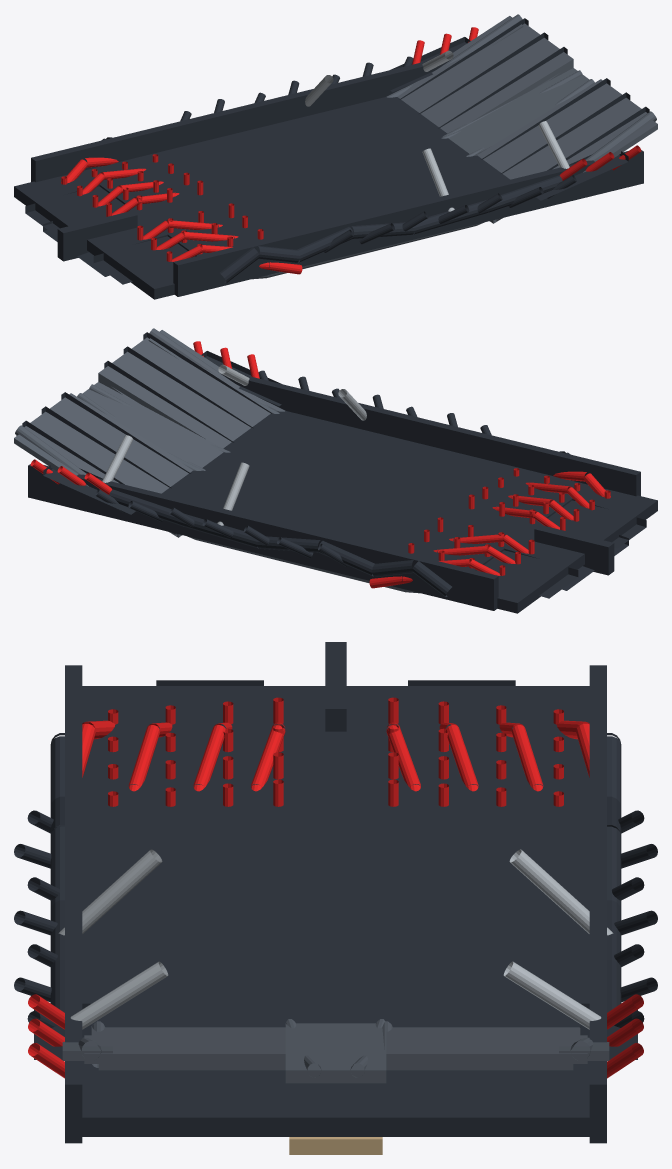
The model's file is FORMULA_EV_V3_COMPLETE_UNDERFLOOR.glb.
3 views of the same model, one above another, from view 1: azimuth 30°, elevation 25°; view 2: azimuth 150°, elevation 25°; view 3: azimuth 270°, elevation 25° (orthographic). The views are drawn at different scales.
Visible parts, largest first — view 1: 22_upper_floor_body, 33_right_diffuser, 32_left_diffuser, 27_left_floor_edge_wing, 35_boat_tail_keel, 26_right_inlet_fences_x4, 34_diffuser_strakes, 25_left_inlet_fences_x4, 31_bib_tea_tray, 37_floor_stays, 28_right_floor_edge_wing, 36_rear_wake_fences (+1 smaller); view 2: 22_upper_floor_body, 32_left_diffuser, 33_right_diffuser, 28_right_floor_edge_wing, 35_boat_tail_keel, 25_left_inlet_fences_x4, 34_diffuser_strakes, 26_right_inlet_fences_x4, 31_bib_tea_tray, 37_floor_stays, 27_left_floor_edge_wing, 36_rear_wake_fences (+1 smaller); view 3: 22_upper_floor_body, 33_right_diffuser, 32_left_diffuser, 27_left_floor_edge_wing, 28_right_floor_edge_wing, 37_floor_stays, 25_left_inlet_fences_x4, 26_right_inlet_fences_x4, 35_boat_tail_keel, 36_rear_wake_fences, 24_right_venturi_tunnel, 23_left_venturi_tunnel (+2 smaller).
Part boxes in pixels (x1,y1,x2,y2): 22_upper_floor_body: [14, 59, 643, 299]; 33_right_diffuser: [386, 14, 573, 133]; 32_left_diffuser: [477, 79, 657, 223]; 27_left_floor_edge_wing: [220, 151, 628, 283]; 35_boat_tail_keel: [441, 68, 594, 156]; 26_right_inlet_fences_x4: [61, 154, 203, 216]; 34_diffuser_strakes: [399, 18, 649, 174]; 25_left_inlet_fences_x4: [137, 203, 302, 274]; 31_bib_tea_tray: [43, 211, 137, 276]; 37_floor_stays: [305, 50, 569, 211]; 28_right_floor_edge_wing: [101, 37, 470, 140]; 36_rear_wake_fences: [412, 27, 641, 180]; 22_upper_floor_body: [28, 373, 657, 613]; 32_left_diffuser: [98, 328, 285, 448]; 33_right_diffuser: [14, 393, 192, 537]; 28_right_floor_edge_wing: [43, 465, 451, 597]; 35_boat_tail_keel: [77, 382, 230, 470]; 25_left_inlet_fences_x4: [468, 468, 610, 530]; 34_diffuser_strakes: [22, 332, 272, 488]; 26_right_inlet_fences_x4: [369, 517, 534, 588]; 31_bib_tea_tray: [534, 525, 628, 590]; 37_floor_stays: [102, 364, 366, 525]; 27_left_floor_edge_wing: [201, 351, 570, 454]; 36_rear_wake_fences: [30, 341, 259, 494]; 22_upper_floor_body: [65, 665, 606, 1143]; 33_right_diffuser: [386, 1026, 609, 1063]; 32_left_diffuser: [62, 1026, 285, 1063]; 27_left_floor_edge_wing: [14, 733, 91, 1059]; 28_right_floor_edge_wing: [580, 733, 657, 1059]; 37_floor_stays: [58, 849, 613, 1029]; 25_left_inlet_fences_x4: [82, 697, 285, 806]; 26_right_inlet_fences_x4: [386, 697, 589, 806]; 35_boat_tail_keel: [285, 1019, 386, 1083]; 36_rear_wake_fences: [28, 994, 643, 1078]; 24_right_venturi_tunnel: [382, 1021, 573, 1070]; 23_left_venturi_tunnel: [92, 1021, 285, 1070].
Bounding box in the file's own units: 157 × 25.7 × 89.58.
